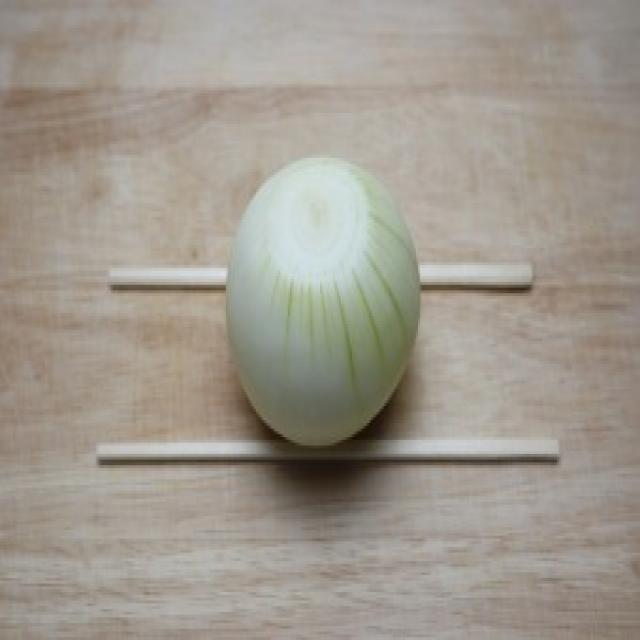onion: (213, 144, 434, 456)
